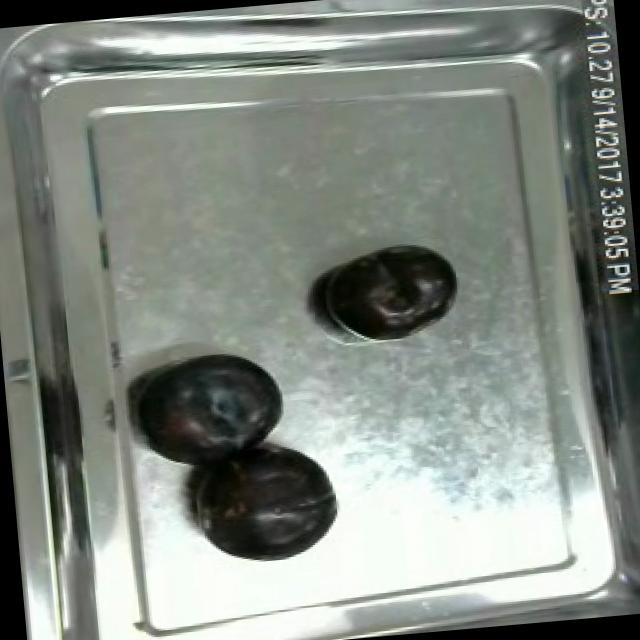Fruit: (189, 430, 348, 570), (128, 342, 294, 472), (314, 236, 466, 342)
